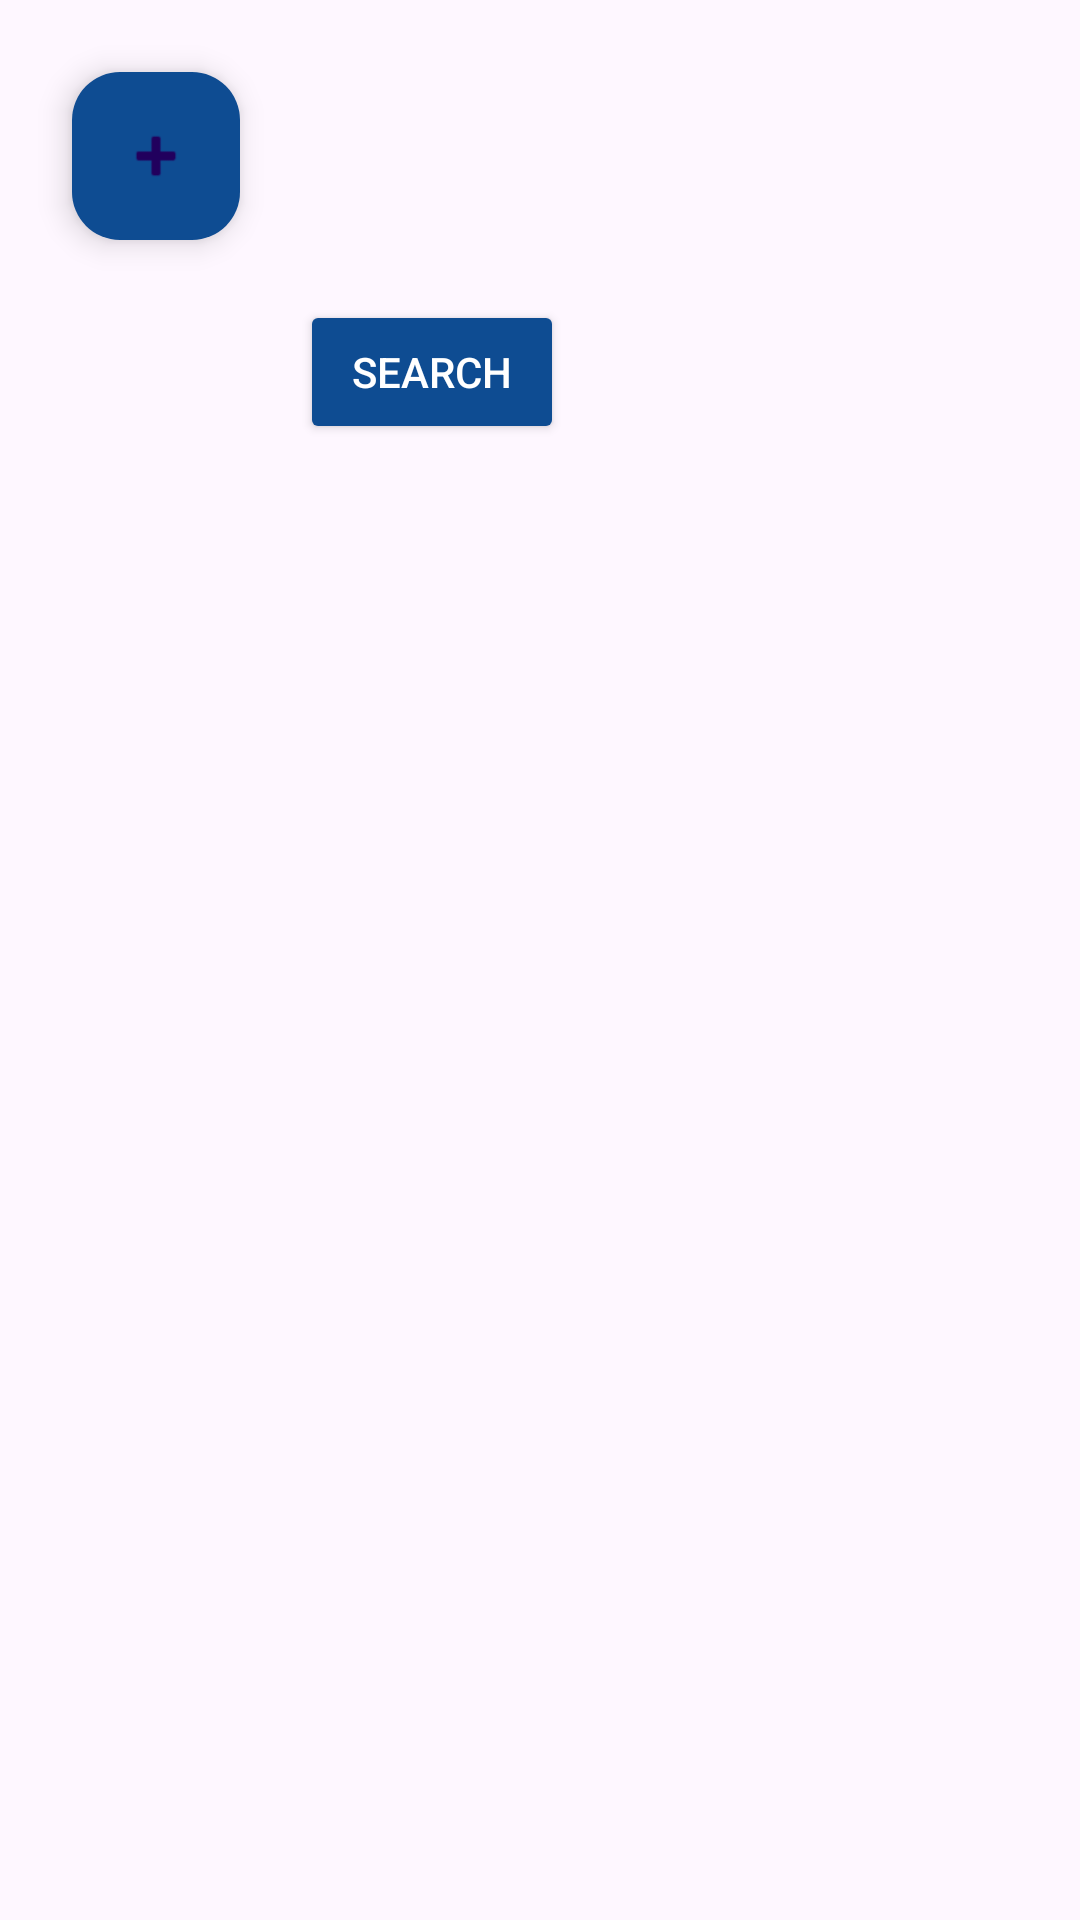

Where to tap for icons on this 1080x1920 app screen, as [x,y]:
Add photo or album: [156,156]
